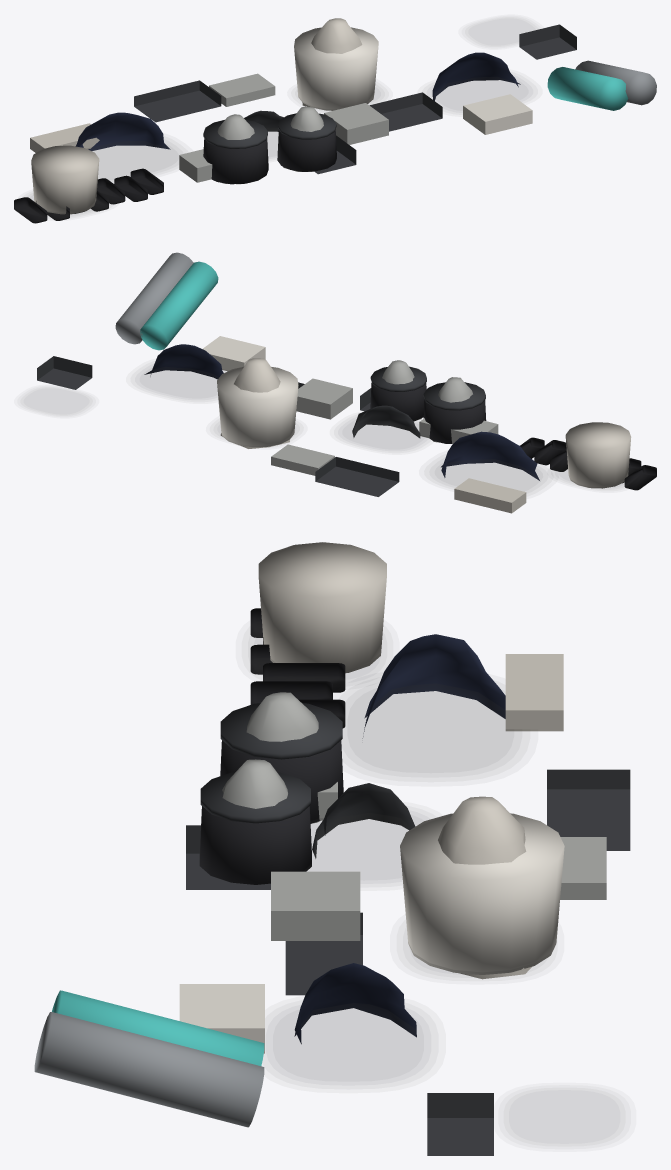
The model's file is master_closet_clutter.glb.
3 renders of one model, top to bottom at view 1: azimuth 30°, elevation 25°; view 2: azimuth 150°, elevation 25°; view 3: azimuth 270°, elevation 25°, orthographic. The views are drawn at different scales.
Visible parts, largest first — view 1: root; view 2: root; view 3: root.
Boxes of the visible parts, x1=… form: root: x1=14, y1=18, x2=656, y2=223; root: x1=24, y1=252, x2=656, y2=513; root: x1=34, y1=542, x2=630, y2=1155.
Size of the model in its own units: 3.85 by 0.4819 by 1.78.
